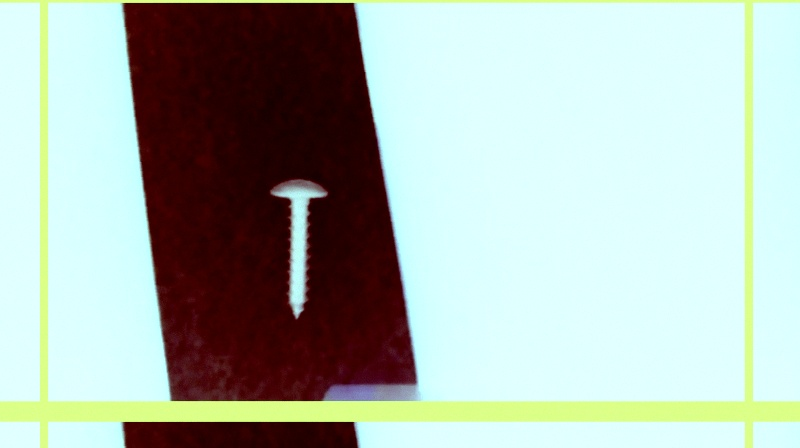S003: (267, 175, 334, 321)
